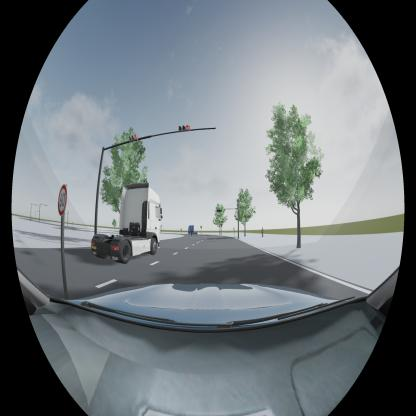Red Light: (178, 124, 191, 132), (128, 134, 138, 142)
